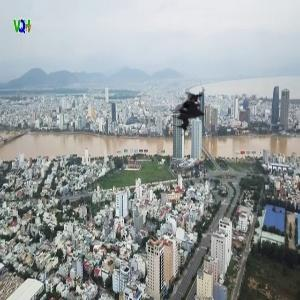drone: (159, 81, 221, 143)
